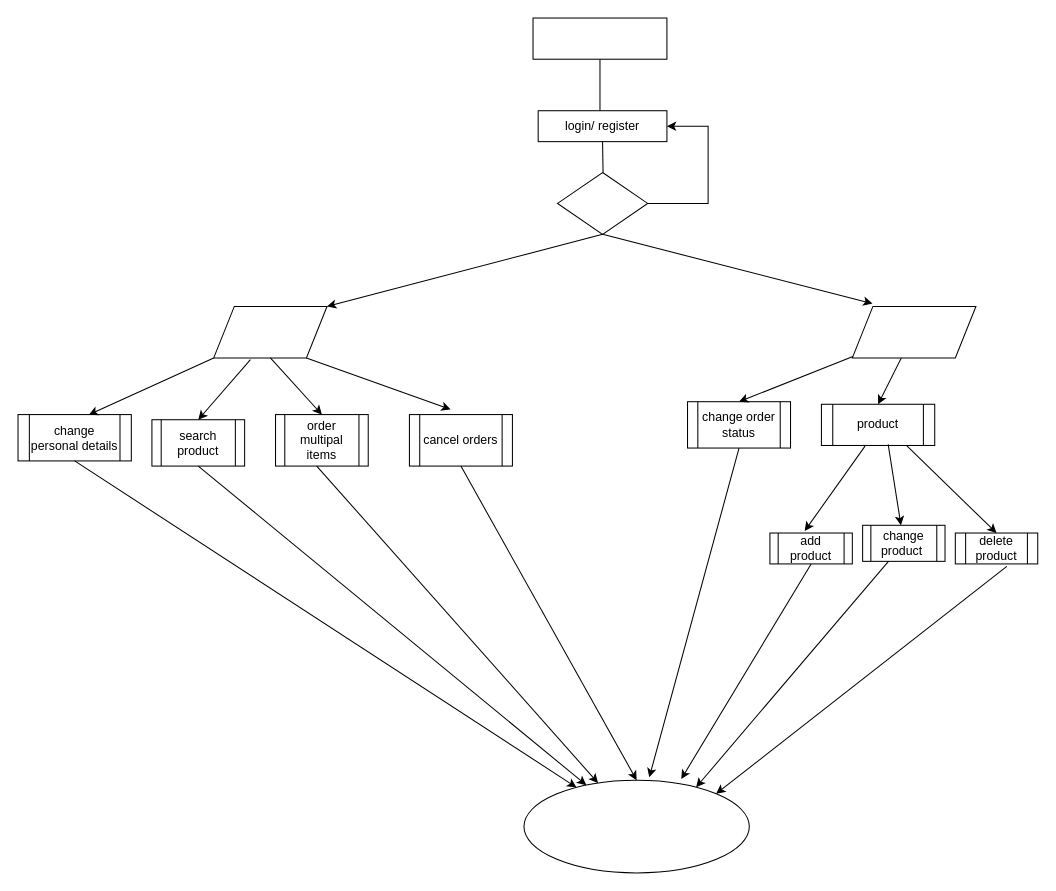
Image size: 1056x891. Some labels were removed from this diagram. The shapes that lost their labels are listed below. From the top down, each one's centre as x and y in pixels, then its label:
At [599,38]: "start".
At [602,202]: "login sucess".
At [270,331]: "user".
At [913,331]: "admin".
At [636,826]: "end".
